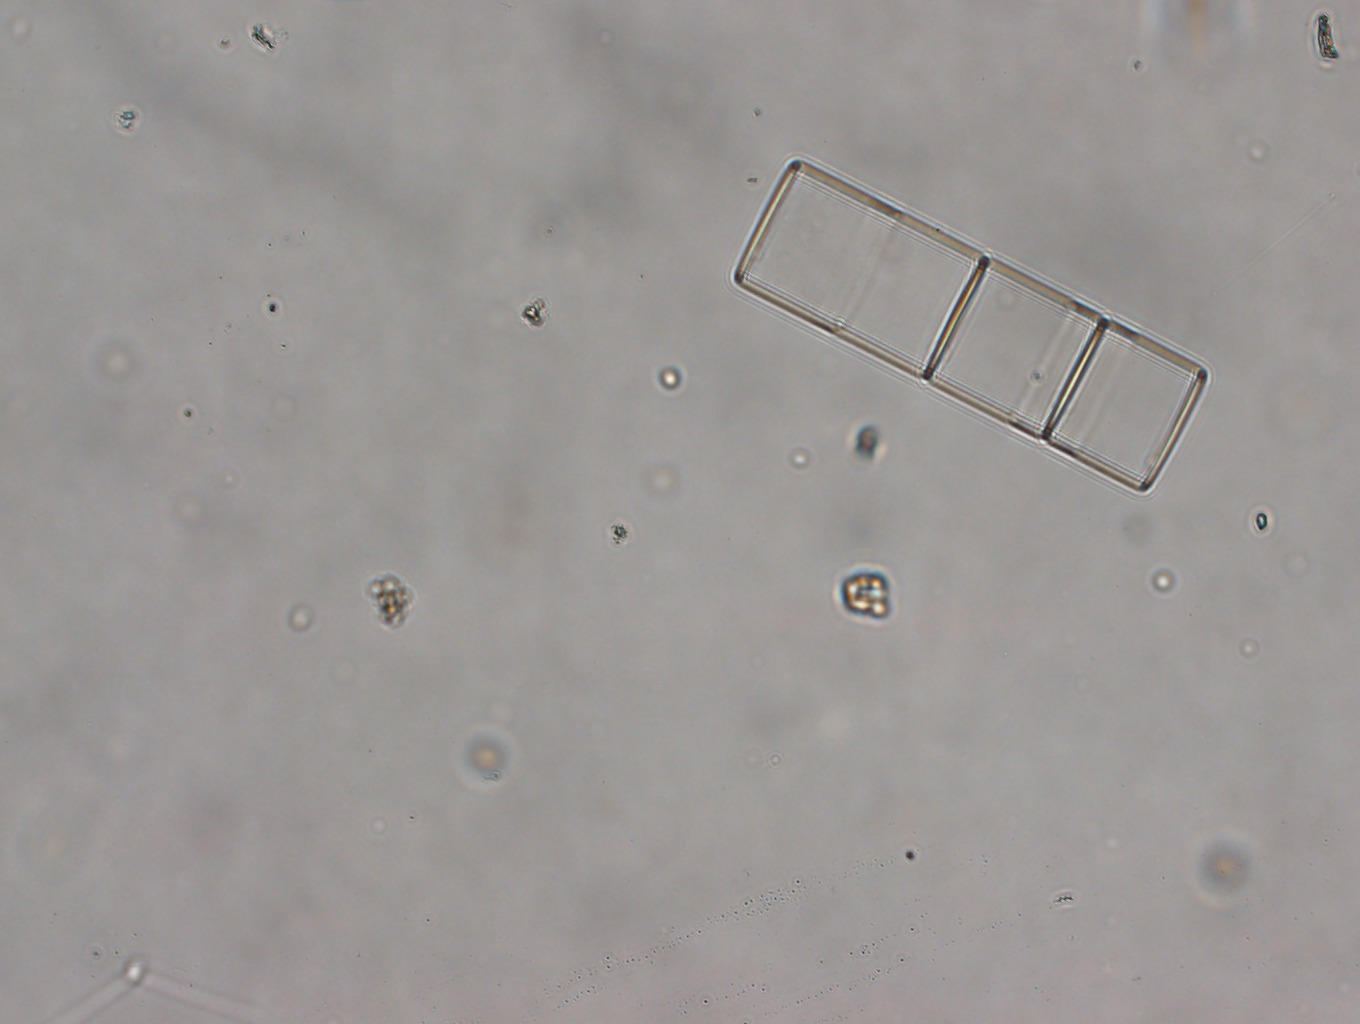guinardia flaccida: (729, 139, 1215, 503)
